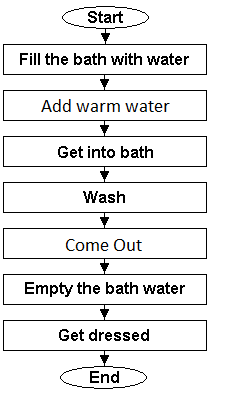arrow: (98, 301, 112, 320), (98, 256, 111, 276), (96, 120, 111, 137), (97, 71, 110, 89), (99, 211, 111, 230), (98, 166, 112, 181), (98, 348, 110, 364), (99, 27, 110, 44)
process: (1, 87, 210, 124), (1, 225, 209, 262), (1, 42, 210, 78), (1, 134, 210, 170), (1, 318, 210, 354), (1, 272, 209, 308), (1, 180, 210, 215)
terminator: (59, 3, 150, 31), (59, 364, 149, 391)
text: (22, 279, 188, 300), (16, 51, 190, 69), (37, 97, 171, 115), (55, 142, 154, 161), (57, 325, 152, 343), (63, 237, 143, 254), (80, 188, 128, 206), (84, 8, 126, 24), (87, 368, 121, 386)
